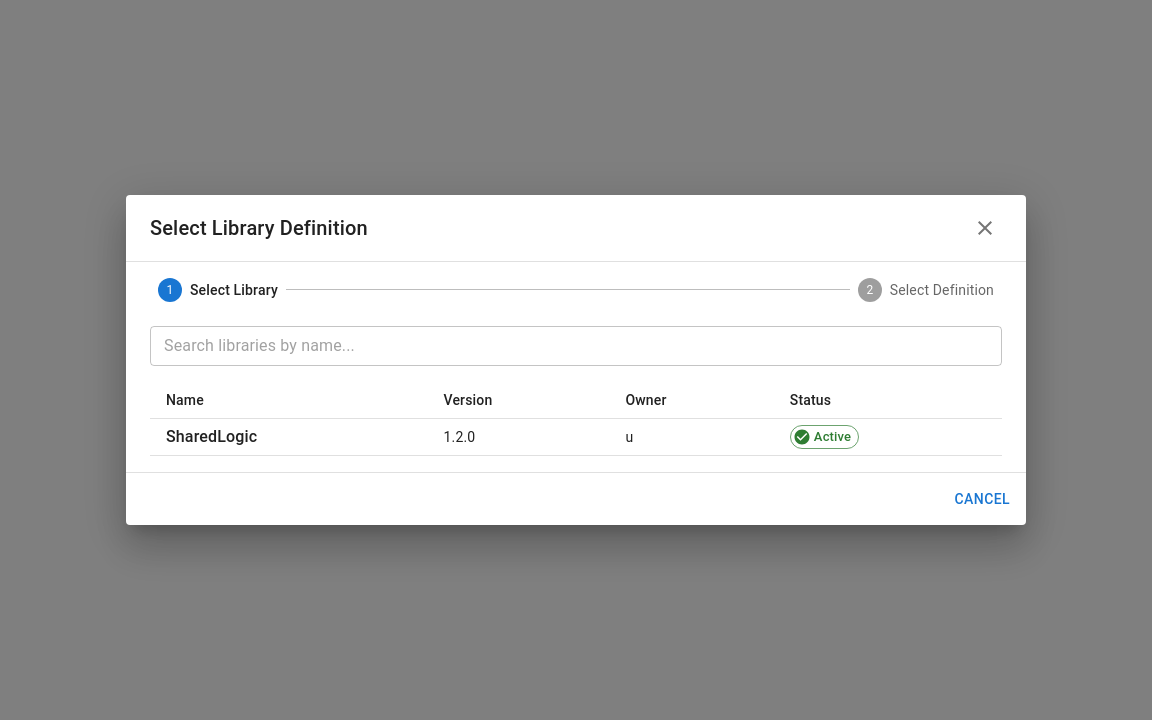
Test case: LibraryDefinitionPicker dialog › disables the confirm button until both a definition and non-empty alias are set
The width and height of the screenshot is (1152, 720).
Click the text "SharedLogic" at (212,436), box [166,427,257,446]
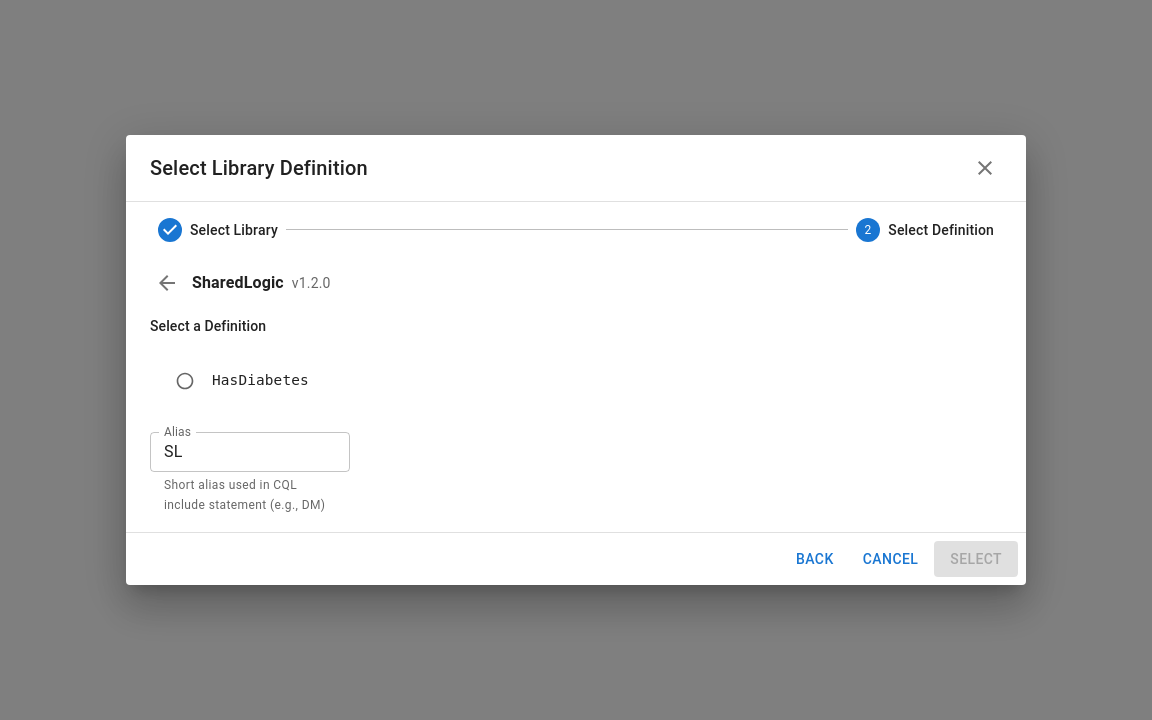
expect the button "Select" is disabled: met, box [934,541,1018,577]
# Pick a definition
Click the button "HasDiabetes" at (242,381), box [175,371,309,391]
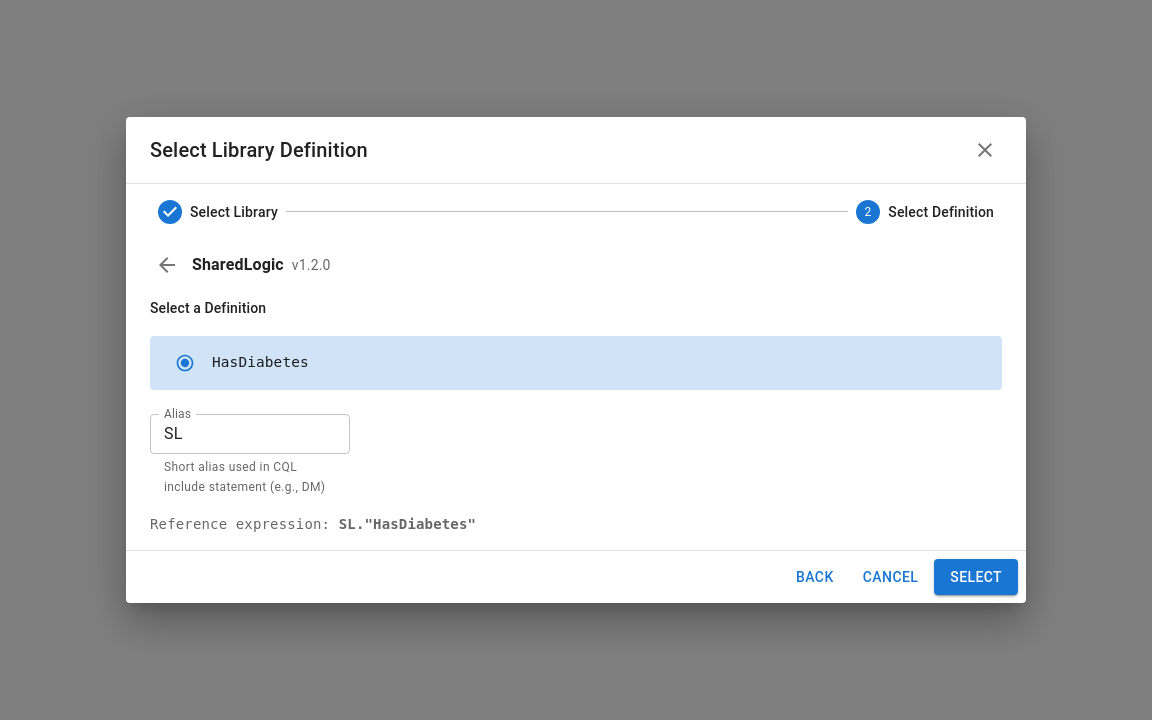
expect the button "Select" is enabled: met, box [934,559,1018,595]
Clear the field labelled "Alias" at (250,434), box [150,414,350,454]
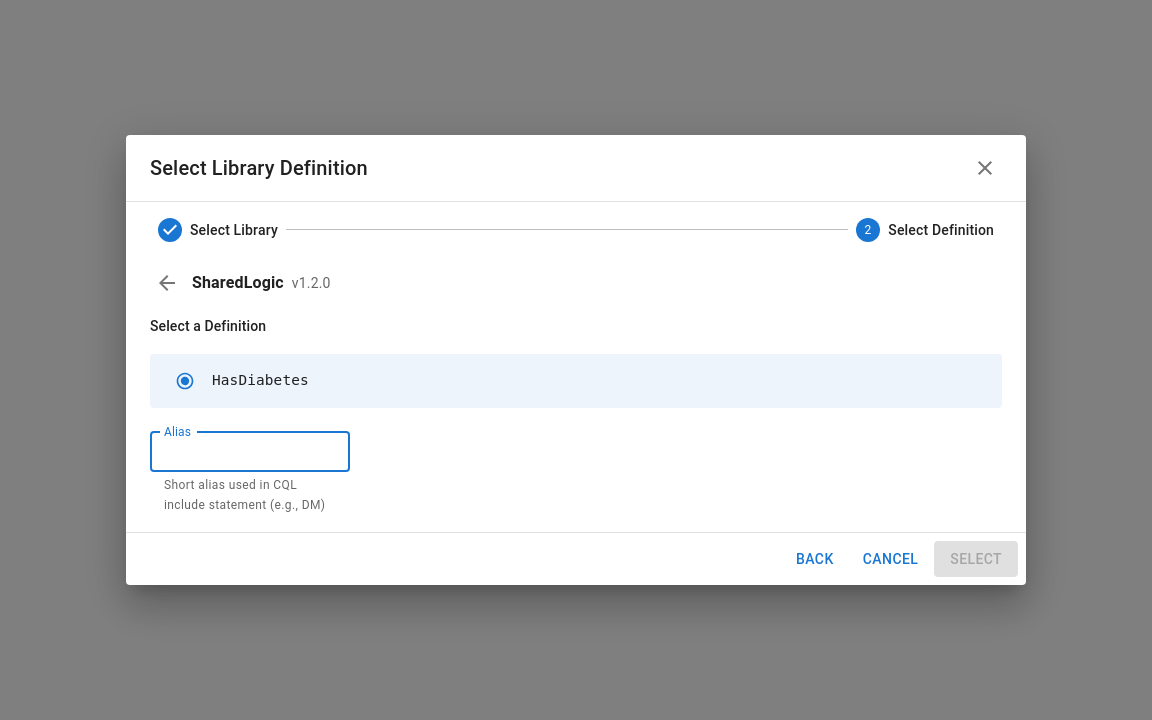
expect the button "Select" is disabled: met, box [934,541,1018,577]
